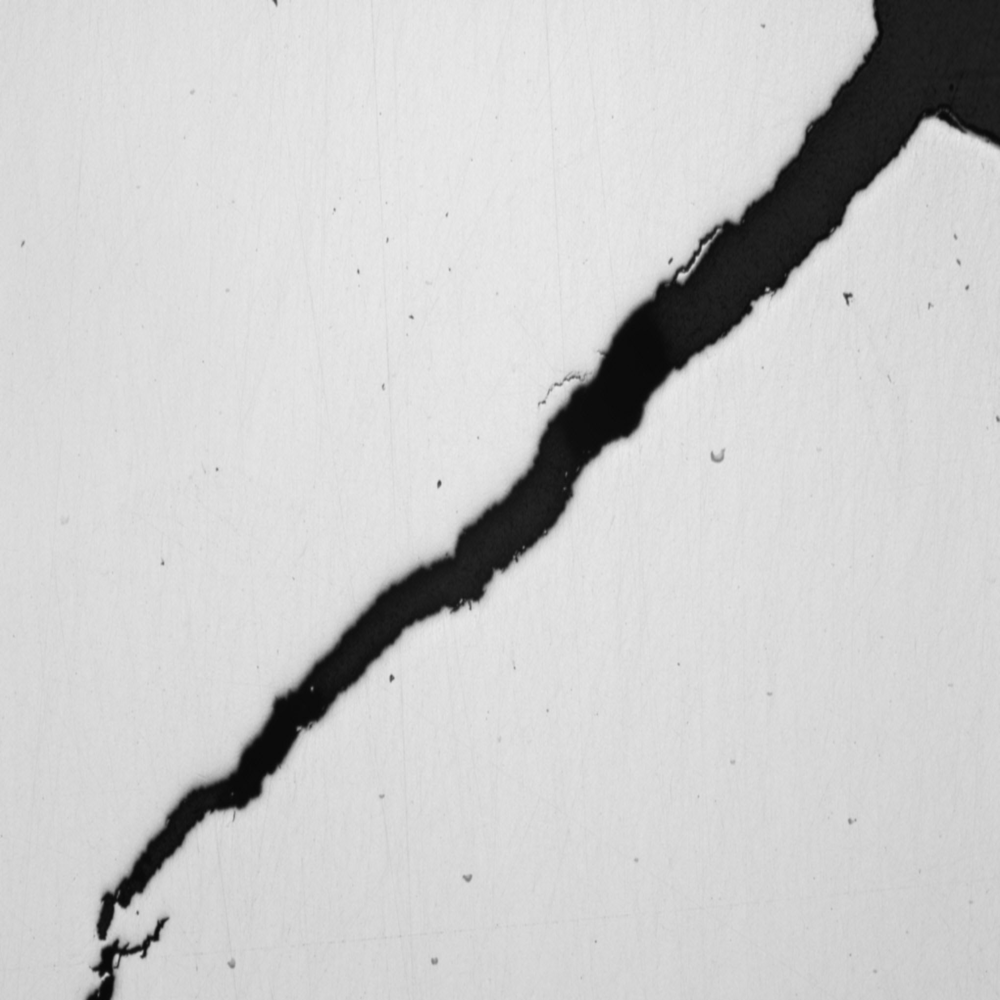crack: (74, 17, 968, 994)
